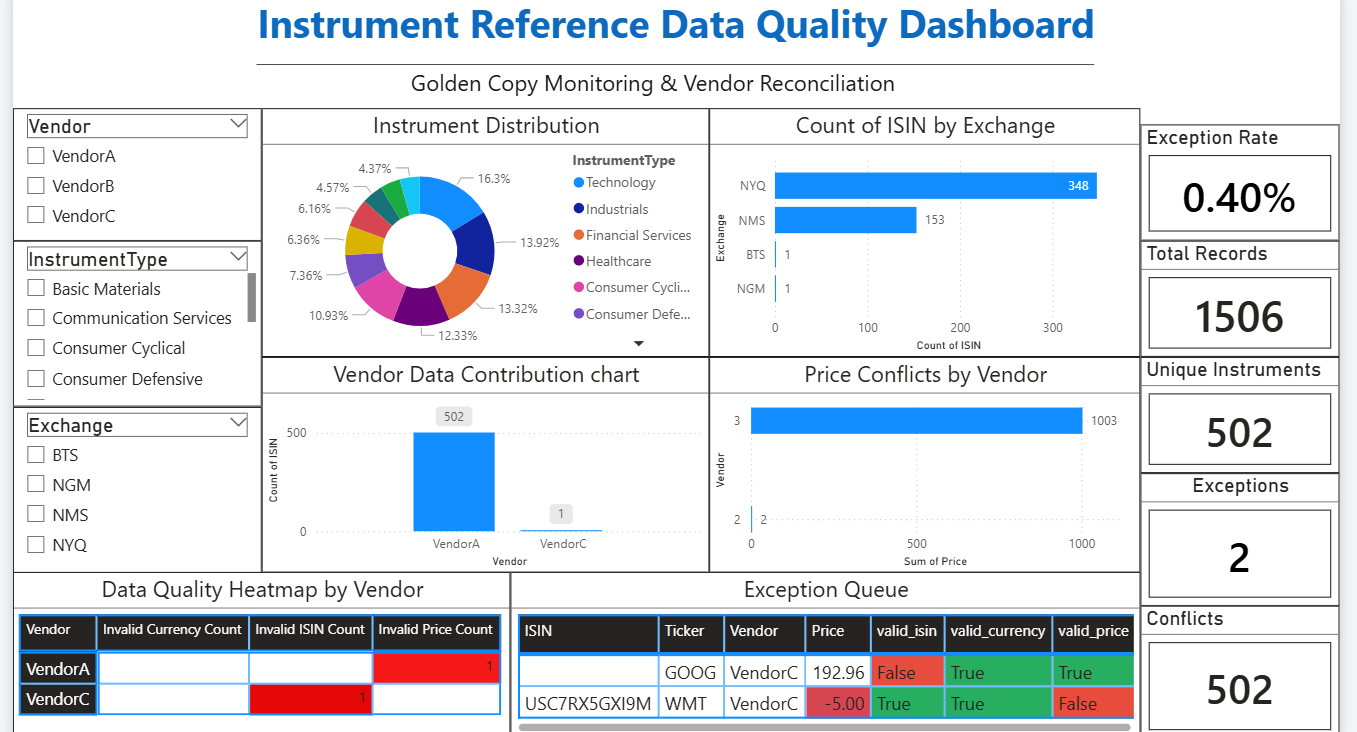

What the dashboard file says about the page in this screenshot:
{"tool":"powerbi","page":{"name":"Page 1","canvas":[1280,720],"ordinal":0},"visuals":[{"type":"textbox","box":[0,0,1280,112],"z":0},{"type":"cardVisual","title":"Total Records","fields":{"Data":["Sum(Metrics.Value)"]},"box":[1088,240,192,112],"z":1000},{"type":"cardVisual","title":"Unique Instruments","fields":{"Data":["Sum(Metrics.Value)"]},"box":[1088,352,192,112],"z":2000},{"type":"cardVisual","title":"Exceptions","fields":{"Data":["Sum(Metrics.Value)"]},"box":[1088,464,192,128],"z":3000},{"type":"cardVisual","title":"Conflicts","fields":{"Data":["Sum(Metrics.Value)"]},"box":[1088,592,192,128],"z":4000},{"type":"cardVisual","title":"Exception Rate","fields":{"Data":["Conflicts.Exception Rate"]},"box":[1088,128,192,112],"z":5000},{"type":"slicer","title":"Vendor","fields":{"Values":["Vendors.Vendor"]},"box":[0,112,240,128],"z":6000},{"type":"slicer","fields":{"Values":["GoldenCopy.InstrumentType"]},"box":[0,240,240,160],"z":7000},{"type":"slicer","fields":{"Values":["GoldenCopy.Exchange"]},"box":[0,400,240,160],"z":8000},{"type":"donutChart","title":"Instrument Distribution","fields":{"Category":["GoldenCopy.InstrumentType"],"Y":["CountNonNull(GoldenCopy.ISIN)"]},"box":[240,112,432,240],"z":9000},{"type":"clusteredBarChart","fields":{"Category":["GoldenCopy.Exchange"],"Y":["CountNonNull(GoldenCopy.ISIN)"]},"box":[672,112,416,240],"z":10000},{"type":"clusteredColumnChart","title":"Vendor Data Contribution chart","fields":{"Category":["GoldenCopy.Vendor"],"Y":["CountNonNull(GoldenCopy.ISIN)"]},"box":[240,352,432,208],"z":11000},{"type":"clusteredBarChart","title":"Price Conflicts by Vendor","fields":{"Category":["Conflicts.Vendor"],"Y":["Sum(Conflicts.Price)"]},"box":[672,352,416,208],"z":12000},{"type":"pivotTable","title":"Data Quality Heatmap by Vendor","fields":{"Rows":["Vendors.Vendor"],"Values":["Conflicts.Invalid Currency Count","Conflicts.Invalid ISIN Count","Conflicts.Invalid Price Count"]},"box":[0,560,480,160],"z":13000},{"type":"tableEx","title":"Exception Queue","fields":{"Values":["Expectations.ISIN","Expectations.Ticker","Expectations.Vendor","Expectations.Price","Expectations.valid_isin","Expectations.valid_currency","Expectations.valid_price"]},"box":[480,560,608,160],"z":14000}]}

Visuals, with their boxes in screenshot pixels (x1, y1, x2, y2):
textbox: <region>7, 0, 1337, 102</region>
"Total Records" cardVisual: <region>1137, 235, 1337, 352</region>
"Unique Instruments" cardVisual: <region>1137, 352, 1337, 468</region>
"Exceptions" cardVisual: <region>1137, 468, 1337, 601</region>
"Conflicts" cardVisual: <region>1137, 601, 1337, 731</region>
"Exception Rate" cardVisual: <region>1137, 119, 1337, 235</region>
"Vendor" slicer: <region>7, 102, 256, 235</region>
slicer - GoldenCopy.InstrumentType: <region>7, 235, 256, 401</region>
slicer - GoldenCopy.Exchange: <region>7, 401, 256, 568</region>
"Instrument Distribution" donutChart: <region>256, 102, 705, 352</region>
clusteredBarChart - GoldenCopy.Exchange x CountNonNull(GoldenCopy.ISIN): <region>705, 102, 1137, 352</region>
"Vendor Data Contribution chart" clusteredColumnChart: <region>256, 352, 705, 568</region>
"Price Conflicts by Vendor" clusteredBarChart: <region>705, 352, 1137, 568</region>
"Data Quality Heatmap by Vendor" pivotTable: <region>7, 568, 506, 731</region>
"Exception Queue" tableEx: <region>506, 568, 1137, 731</region>
